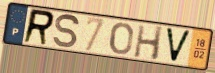7: (83, 15, 107, 53)
H: (133, 24, 165, 63)
O: (108, 21, 135, 56)
R: (21, 8, 57, 48)
S: (52, 13, 81, 50)
V: (164, 26, 193, 64)
